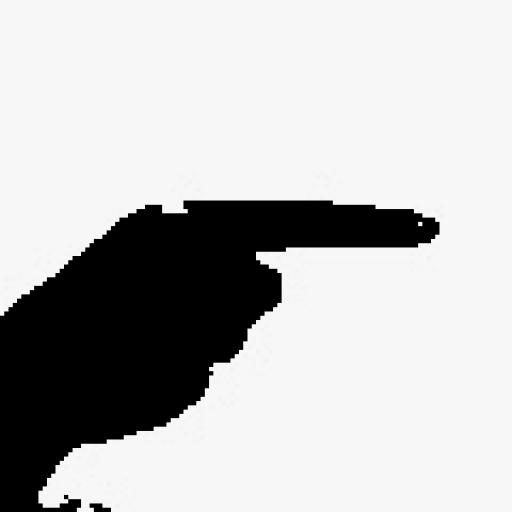index_right: (0, 196, 439, 398)
